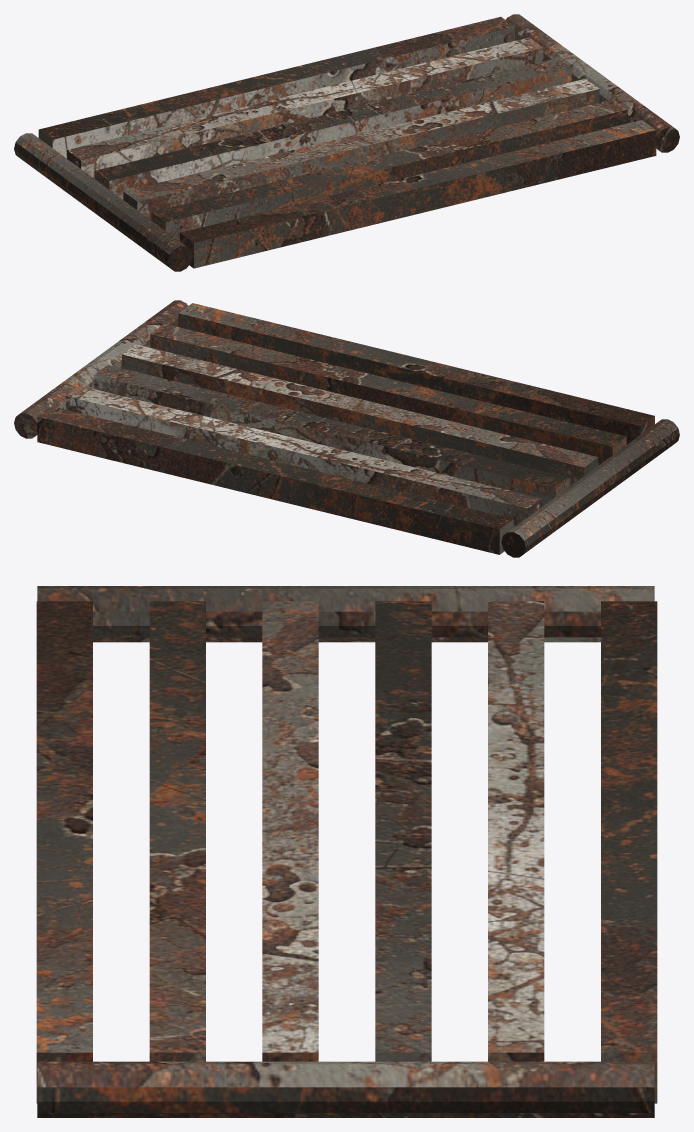
The model's file is SpaceDebris-1 1.fbx.
The picture shows the model from 3 angles, top to bottom: view 1: azimuth 30°, elevation 25°; view 2: azimuth 150°, elevation 25°; view 3: azimuth 270°, elevation 25°; orthographic projection. The views are drawn at different scales.
Visible parts, largest first — view 1: Cube; view 2: Cube; view 3: Cube.
Part boxes in pixels (x1=…): Cube: x1=14, y1=14, x2=679, y2=271; Cube: x1=14, y1=300, x2=679, y2=557; Cube: x1=36, y1=586, x2=657, y2=1117.
Size of the model in its own units: 4189 by 200 by 2200.
